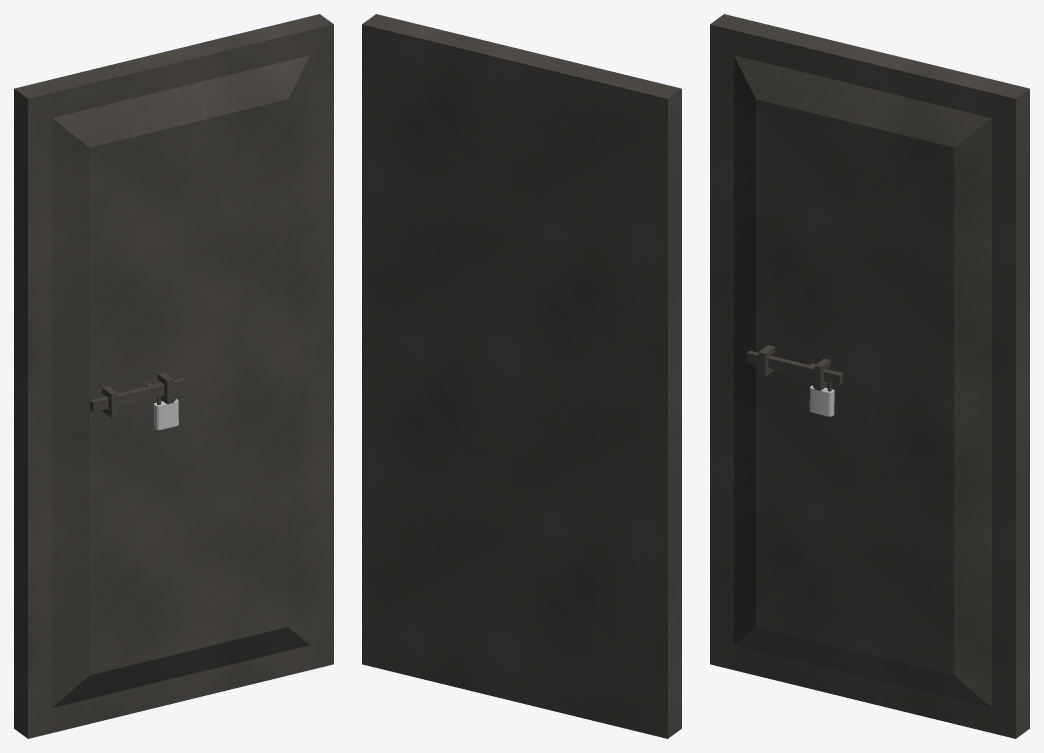
The model's file is porte sortie.fbx.
3 views of the same model, side by side, from view 1: azimuth 30°, elevation 25°; view 2: azimuth 150°, elevation 25°; view 3: azimuth 330°, elevation 25° (orthographic).
Parts seen in each view (by area): view 1: Cube, cadena; view 2: Cube; view 3: Cube, cadena.
Part boxes in pixels (x1=…): Cube: x1=14, y1=14, x2=333, y2=738; cadena: x1=154, y1=392, x2=178, y2=430; Cube: x1=362, y1=14, x2=681, y2=738; Cube: x1=710, y1=14, x2=1029, y2=738; cadena: x1=809, y1=379, x2=834, y2=416.
Bounding box in the file's own units: 100 × 200 × 17.89.
